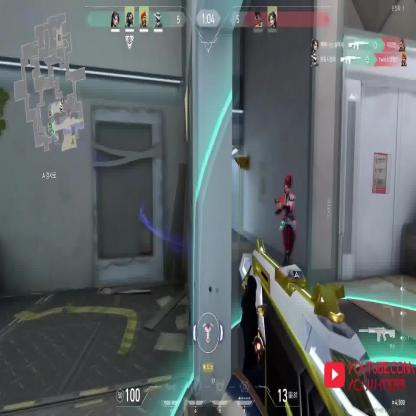enemy: (272, 169, 296, 270)
enemy_head: (284, 178, 292, 198)
